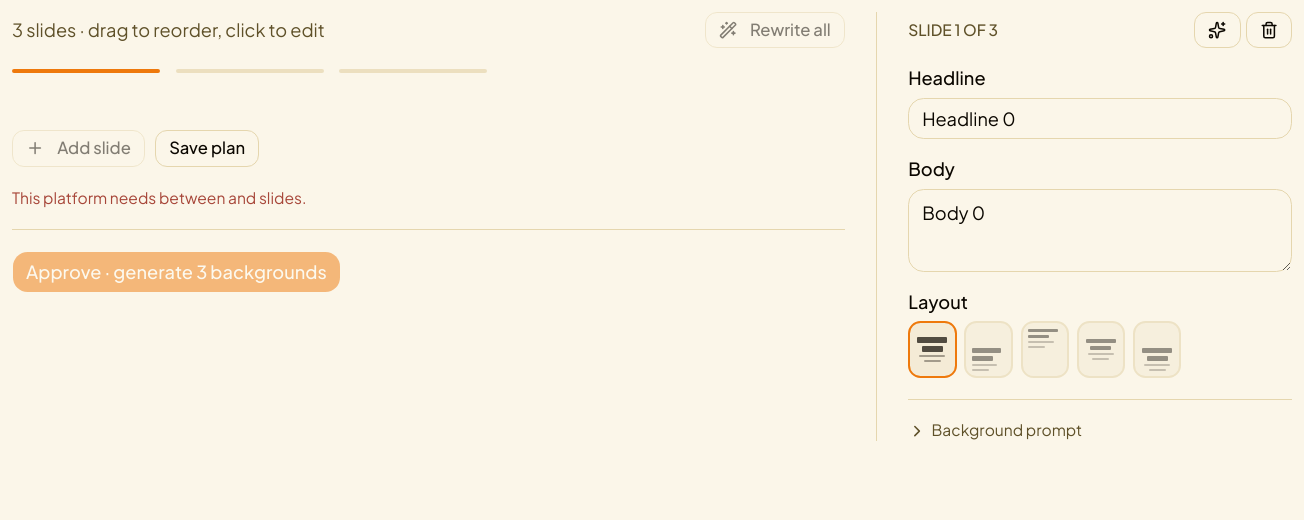
ScenarioEditor › writes an edit back to the selected slide only
Replace the text in the field labelled "Headline" with "Rewritten" at (1100, 119), box x1=908 y1=98 x2=1292 y2=139
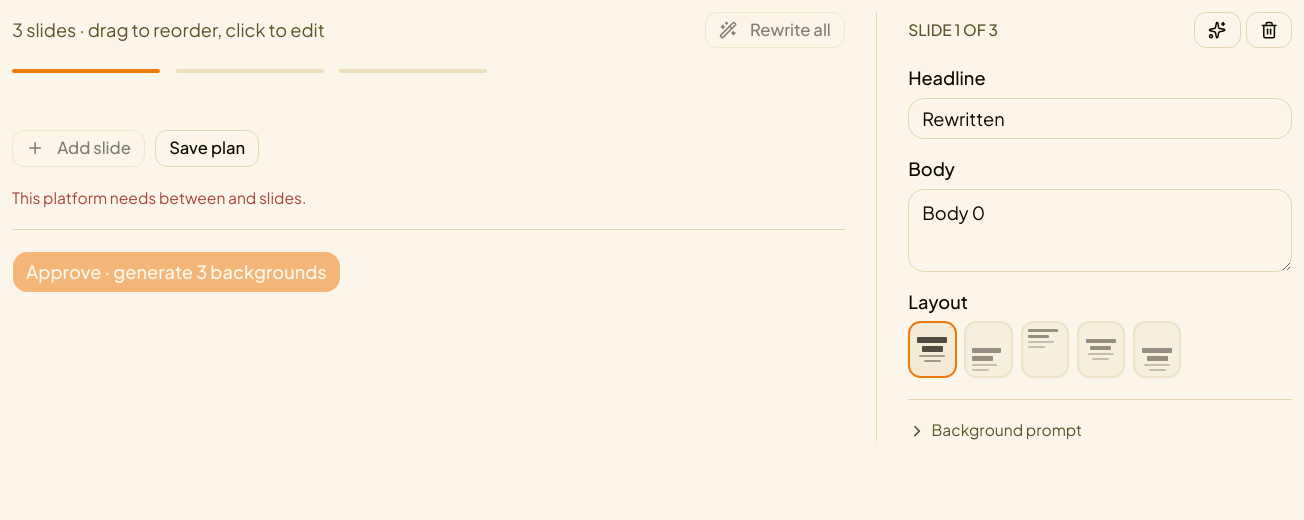
Click the 2nd button with test id "scenario-slide" at (250, 71), box x1=176 y1=69 x2=324 y2=73
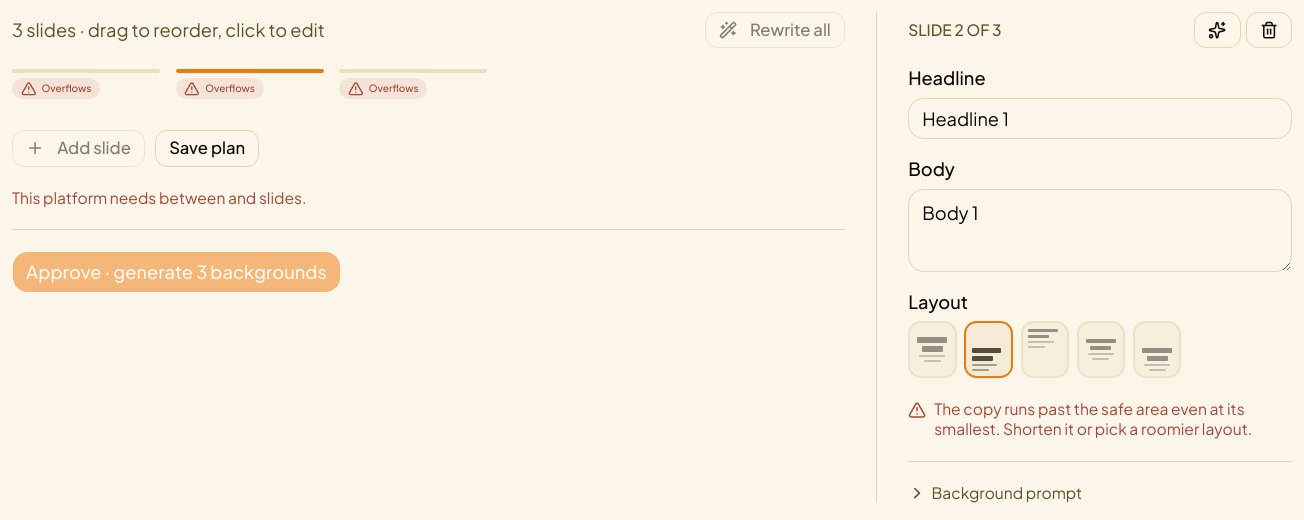
Expected: the field labelled "Headline" holds "Headline 1", x1=908 y1=98 x2=1292 y2=139
